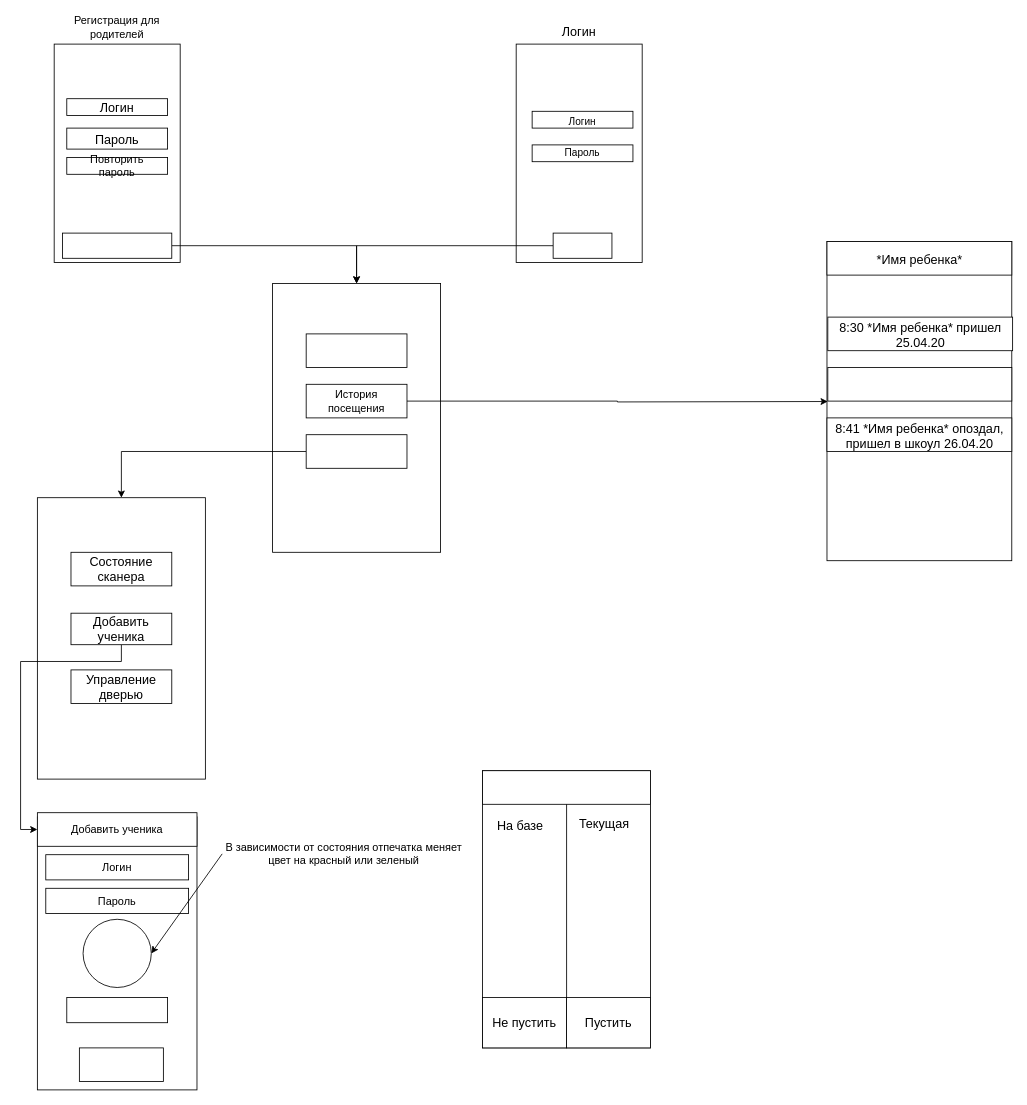
This 1027x1105 diagram has some shape labels left out. Here are the shapes that lost their labels. From the top down, the centre of each, then its label:
the point at 117,245: Зарегистрироваться
the point at 582,245: Войти
the point at 919,384: 16:30 *имя ребенка* ушел из школы 25.04.20
the point at 356,451: Меню охраника
the point at 566,787: Верификация фотографий
the point at 117,1010: Сканировать отпечаток
the point at 121,1064: Добавить ученкиа
